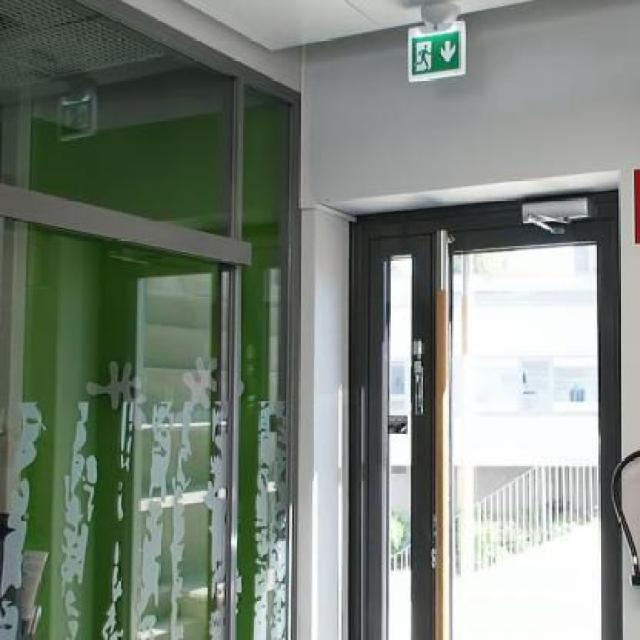person: (390, 12, 474, 80)
